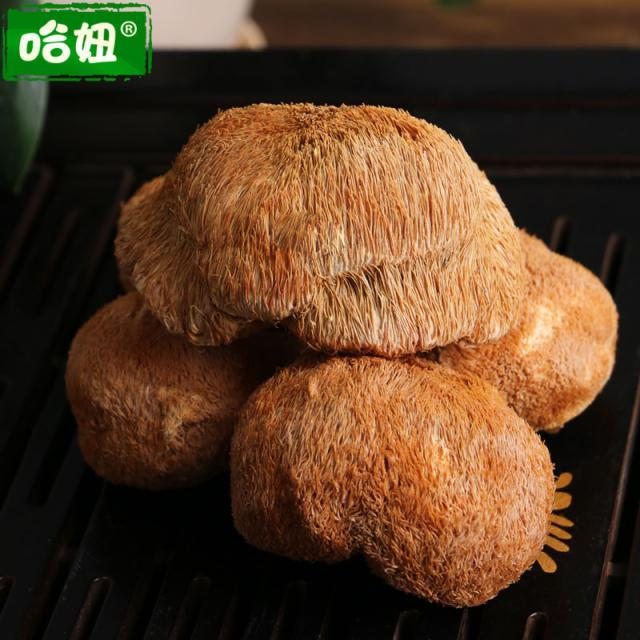Hericium erinaceus: (115, 101, 523, 347), (233, 356, 555, 601), (70, 282, 244, 482), (460, 227, 618, 421)
